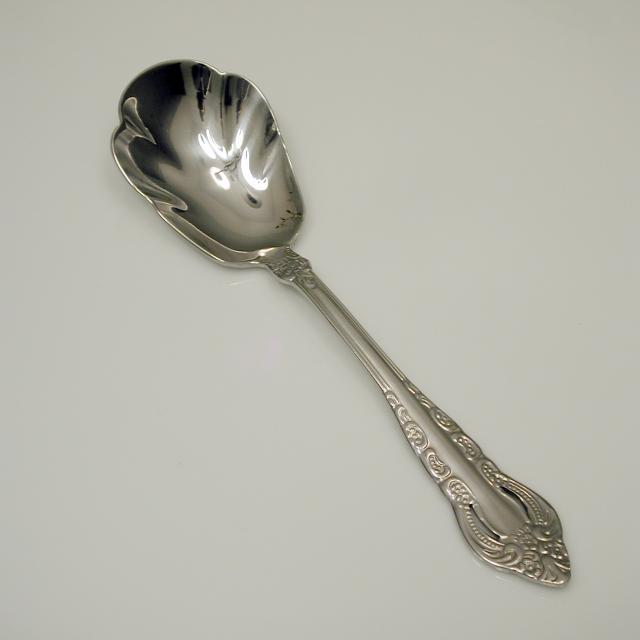spoon: (91, 46, 588, 603)
